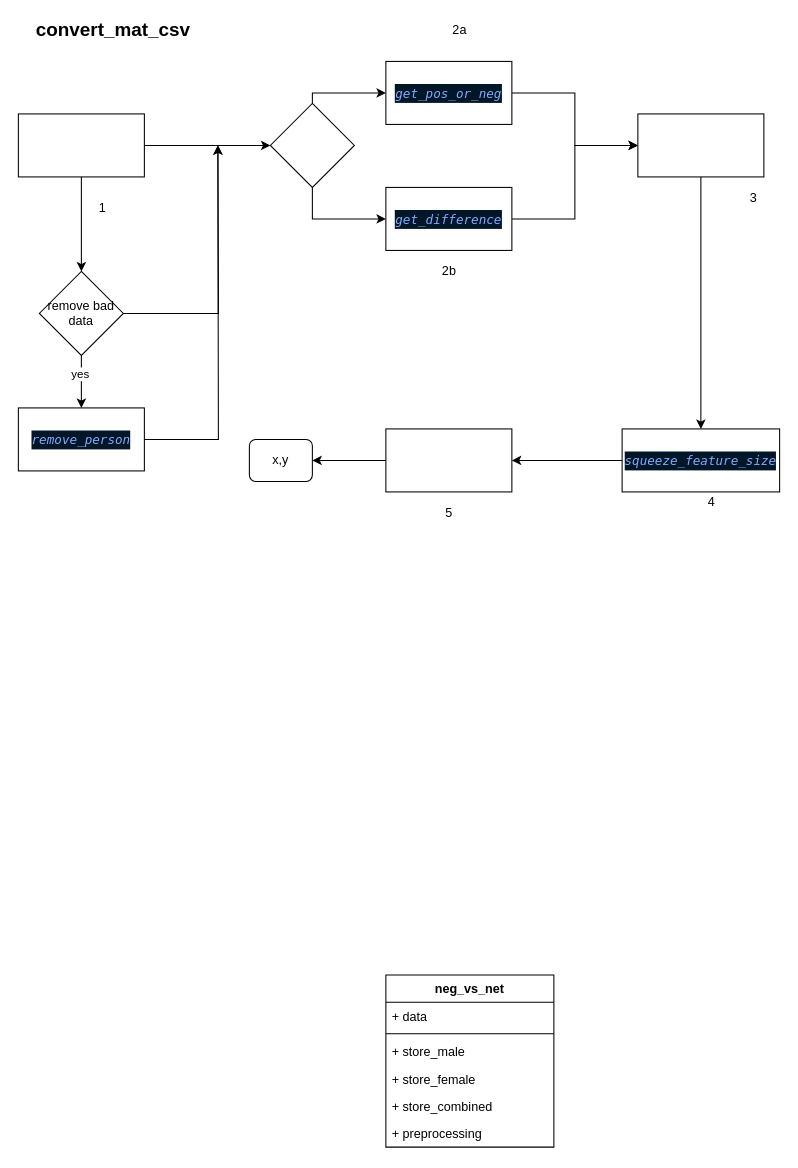
The diagram is 798 pixels wide and 1168 high, and some of its shapes have lost their labels. The centre of each missing label's shape, as x and y in pixels:
choose_freq: pixel 700 145
combine_net_neg: pixel 448 460
convert_mat_np: pixel 80 145
